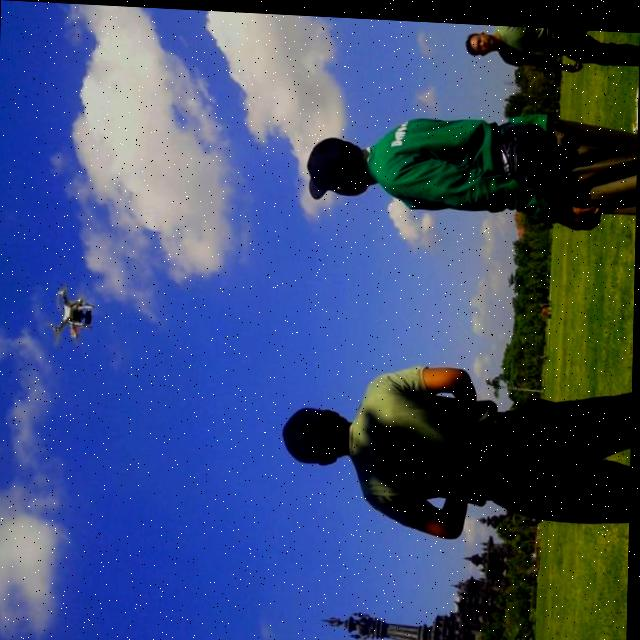drone: (46, 288, 95, 351)
